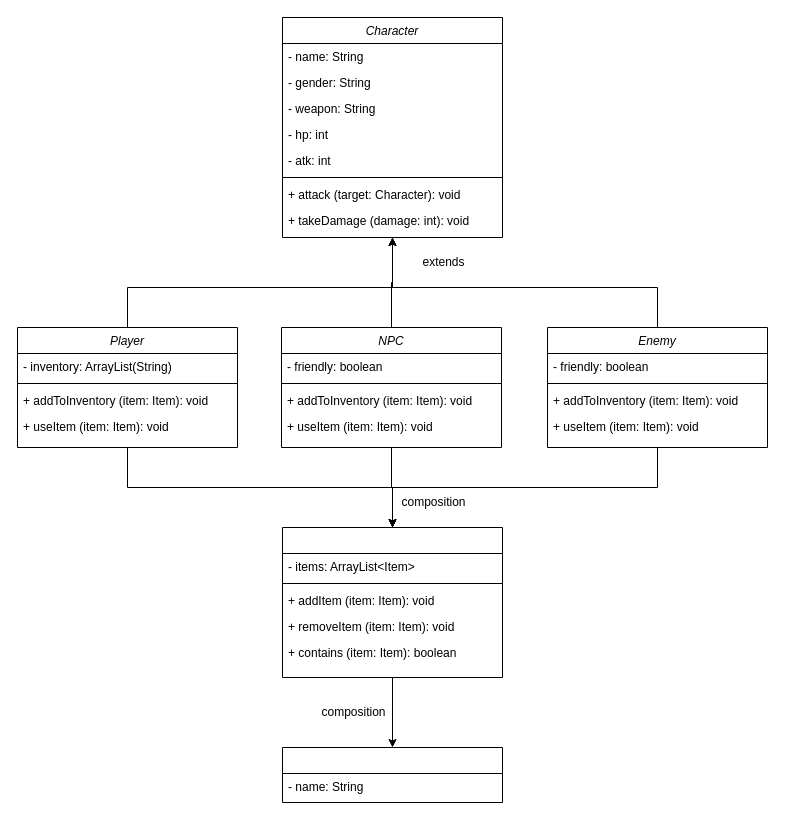
Some shapes in this 785 by 820 pixel diagram are drawn without their labels. Each missing label, with the box of its shape:
Inventory: (282, 526, 502, 678)
Item: (282, 746, 502, 802)
